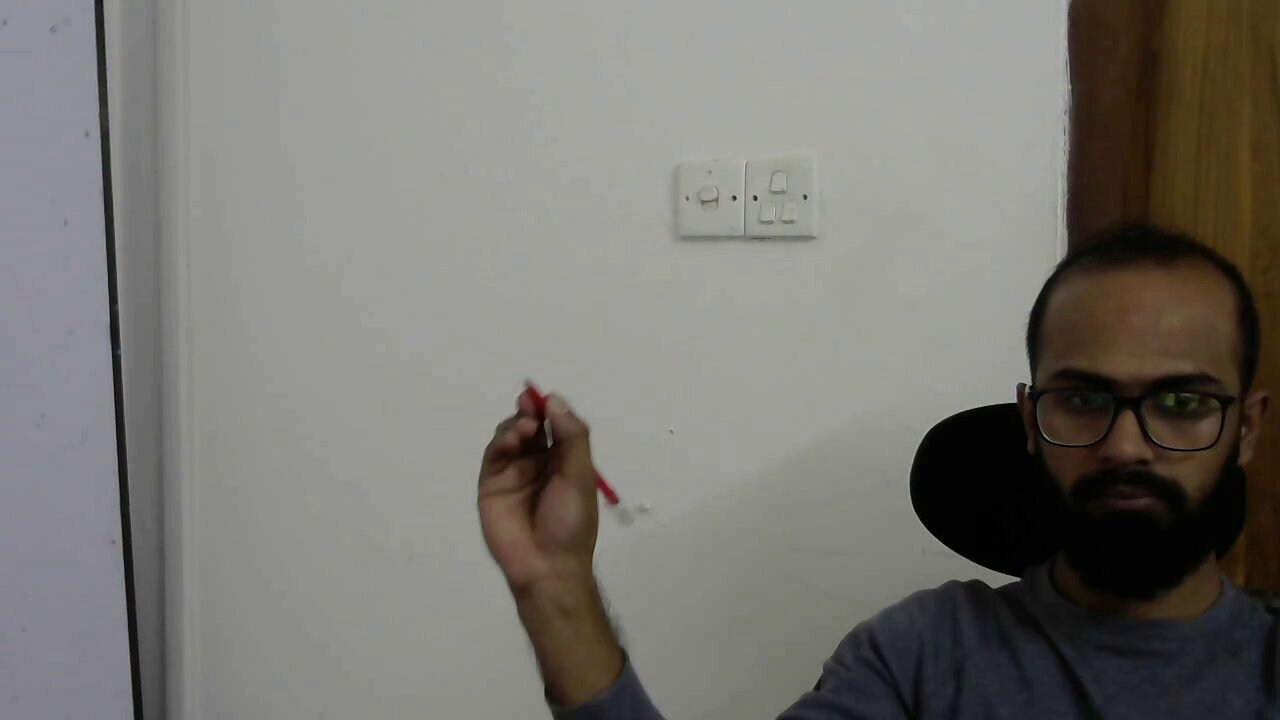pointer: (479, 390, 596, 526)
